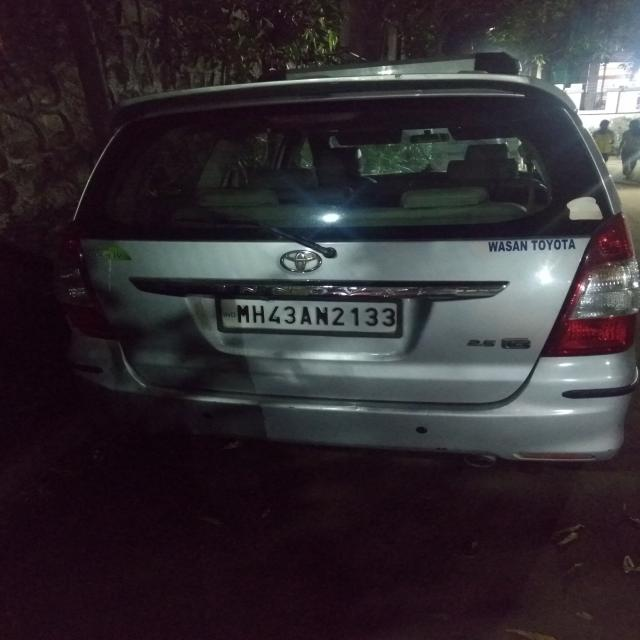Number-Plate: (228, 297, 402, 335)
